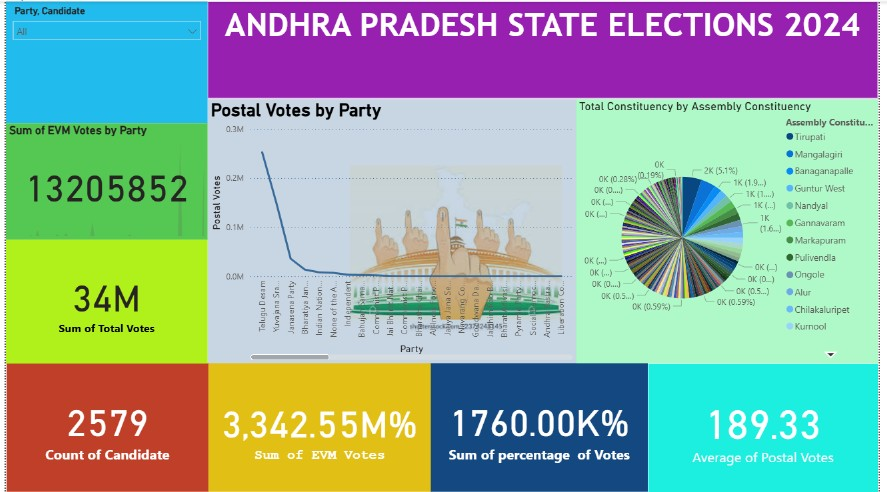

The page's visual inventory and layout, read from the dashboard file:
{"tool":"powerbi","page":{"name":"votes and kpi cards","canvas":[1280,720],"ordinal":0},"visuals":[{"type":"lineChart","fields":{"Category":["APelections.Party"],"Y":["APelections.Postal Votes"]},"box":[295.8,142.8,541,388.1],"z":0},{"type":"card","title":"total EVM votes","fields":{"Values":["APelections.EVM Votes"]},"box":[297.2,530.9,327.5,189],"z":1000},{"type":"card","fields":{"Values":["APelections.percentage  of Votes"]},"box":[623.8,531.2,318.8,188.8],"z":2000},{"type":"card","fields":{"Values":["APelections.Candidate"]},"box":[1.2,531.2,296.2,188.8],"z":3000},{"type":"textbox","box":[296.2,0,983.8,142.5],"z":4000},{"type":"card","fields":{"Values":["APelections.Postal Votes"]},"box":[942.9,531.4,337.1,188.6],"z":5000},{"type":"slicer","fields":{"Values":["APelections.Party","APelections.Candidate"]},"box":[0,0,296.2,178.8],"z":6000},{"type":"kpi","fields":{"Indicator":["APelections.EVM Votes"],"TrendLine":["APelections.Party"]},"box":[0,178.8,296.2,171.2],"z":7000},{"type":"card","fields":{"Values":["APelections.Total Votes"]},"box":[0,350,296.2,181.2],"z":8000},{"type":"pieChart","fields":{"Category":["APelections.Assembly Constituency"],"Y":["APelections.Constituency Count"]},"box":[837,143,443,388],"z":9000}]}

Visuals, with their boxes in screenshot pixels (x1, y1, x2, y2), scaled from the page's 1280x720 canvas onto the 887x492 screenshot:
lineChart - APelections.Party x APelections.Postal Votes: bbox=(205, 98, 580, 363)
"total EVM votes" card: bbox=(206, 363, 433, 491)
card - APelections.percentage  of Votes: bbox=(432, 363, 653, 491)
card - APelections.Candidate: bbox=(1, 363, 206, 491)
textbox: bbox=(205, 0, 886, 97)
card - APelections.Postal Votes: bbox=(653, 363, 886, 491)
slicer - APelections.Party x APelections.Candidate: bbox=(0, 0, 205, 122)
kpi - APelections.EVM Votes x APelections.Party: bbox=(0, 122, 205, 239)
card - APelections.Total Votes: bbox=(0, 239, 205, 363)
pieChart - APelections.Assembly Constituency x APelections.Constituency Count: bbox=(580, 98, 886, 363)
